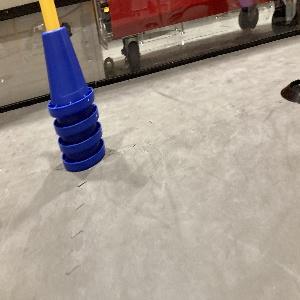Blue_4: (41, 26, 104, 169)
